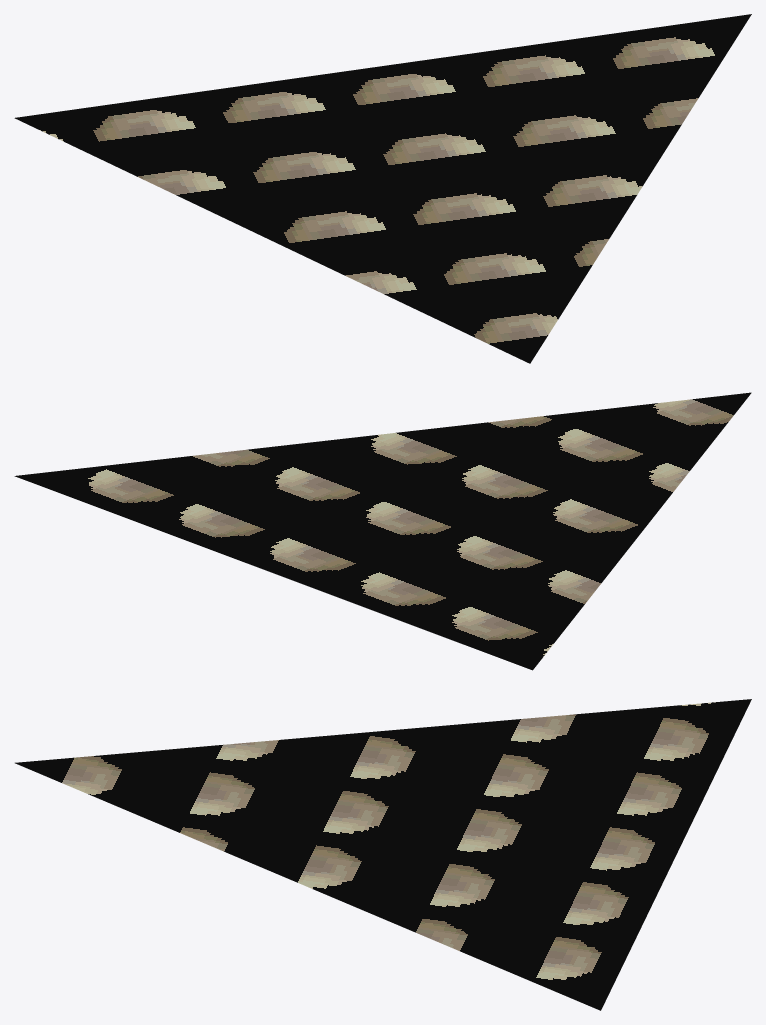
The picture shows the model from 3 angles, top to bottom: view 1: azimuth 30°, elevation 25°; view 2: azimuth 150°, elevation 25°; view 3: azimuth 270°, elevation 25°; orthographic projection. The views are drawn at different scales.
Parts seen in each view (by area): view 1: ef_650; view 2: ef_650; view 3: ef_650.
Part boxes in pixels (x1=…): ef_650: x1=14, y1=14, x2=751, y2=363; ef_650: x1=14, y1=392, x2=751, y2=670; ef_650: x1=15, y1=699, x2=751, y2=1010.
Size of the model in its own units: 0.8301 by 0 by 0.8301.
Materials: 1 (1 with a texture image).
